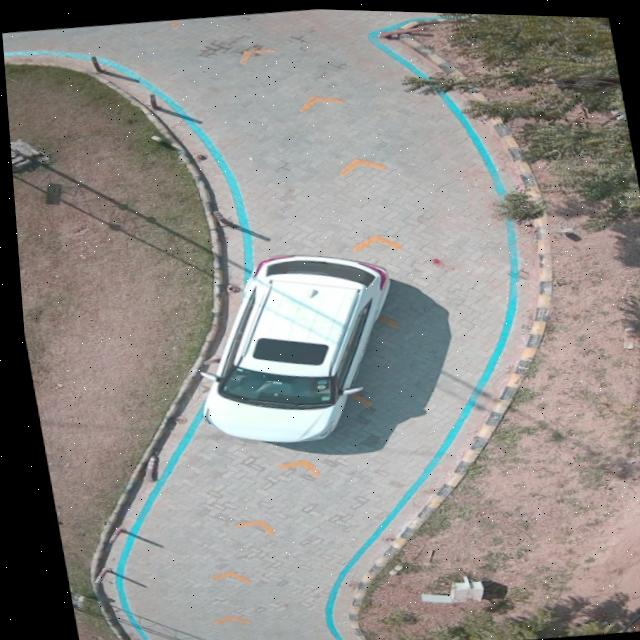car: (197, 251, 385, 439)
